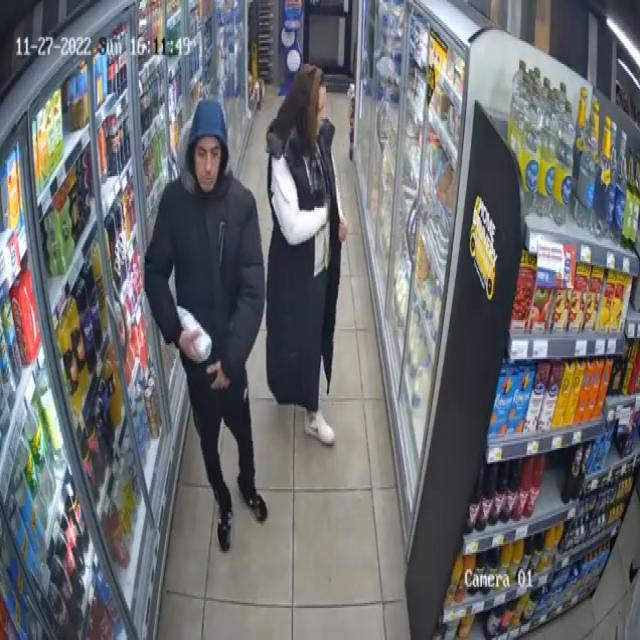article: (178, 306, 211, 356)
hands: (178, 331, 202, 359), (208, 361, 228, 388)
person: (144, 100, 268, 548), (266, 64, 347, 444)
